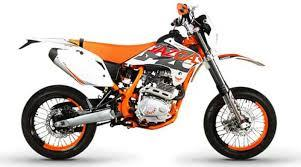motorcycle: (9, 0, 282, 167)
